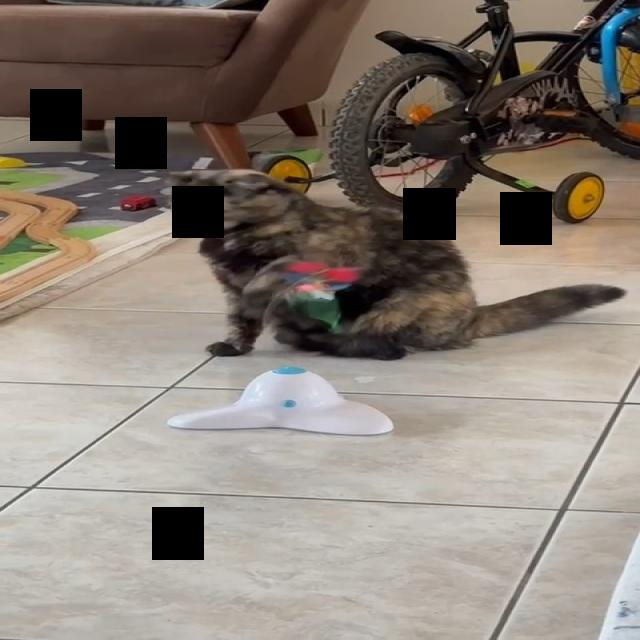authorized: (160, 168, 627, 360)
